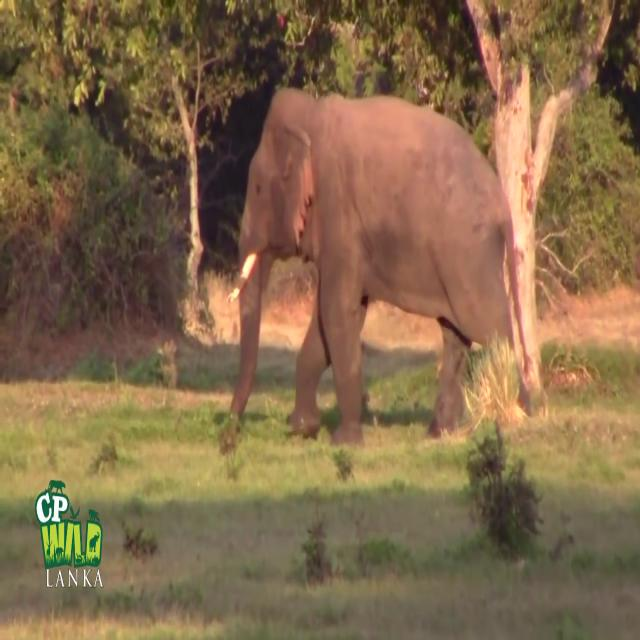Elephant: (225, 86, 540, 447)
